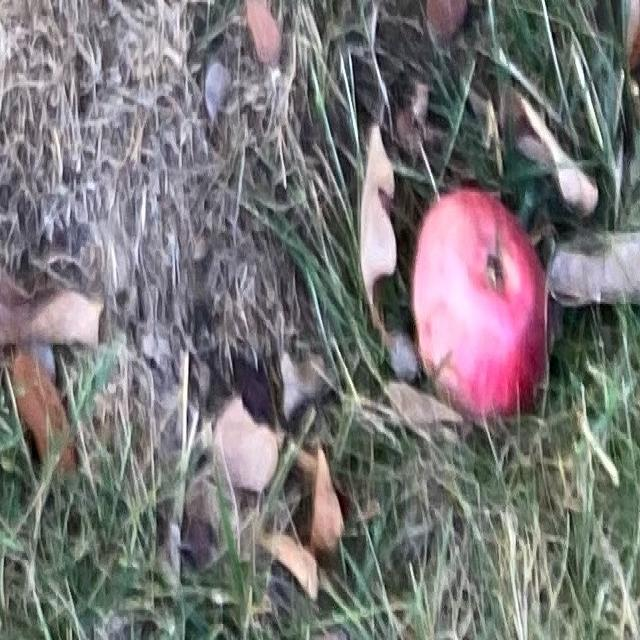100-_ripeness: (416, 192, 546, 412)
